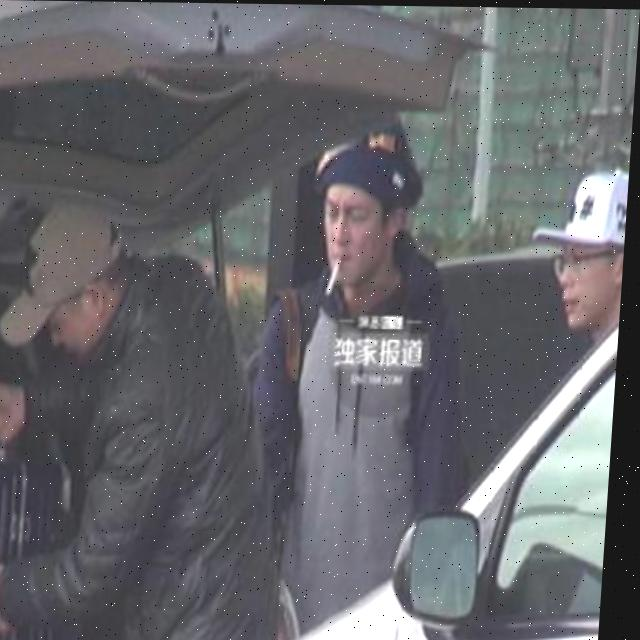cigarette: (330, 254, 350, 295)
